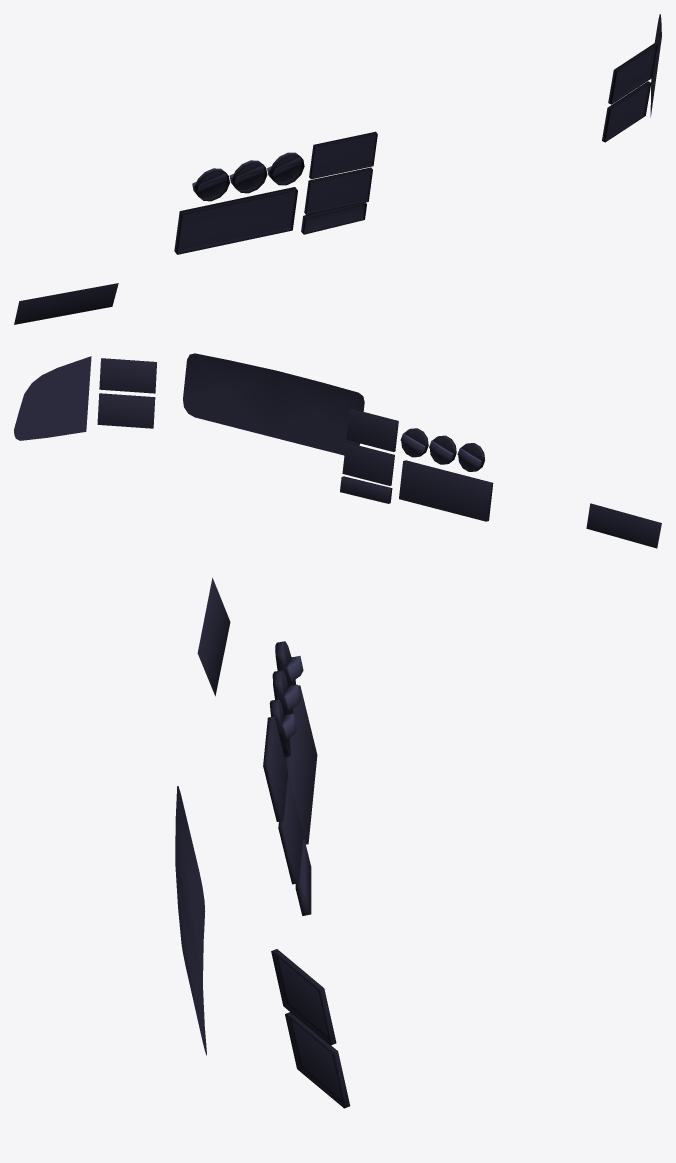
Rendered from MC_XJ220s_Inside_Detail.fbx.
3 renders of one model, top to bottom at view 1: azimuth 30°, elevation 25°; view 2: azimuth 150°, elevation 25°; view 3: azimuth 270°, elevation 25°, orthographic. The views are drawn at different scales.
Parts seen in each view (by area): view 1: MC_XJ220s_Inside_Detail; view 2: MC_XJ220s_Inside_Detail; view 3: MC_XJ220s_Inside_Detail.
Part boxes in pixels (x1=…): MC_XJ220s_Inside_Detail: x1=14, y1=14, x2=661, y2=324; MC_XJ220s_Inside_Detail: x1=14, y1=353, x2=661, y2=548; MC_XJ220s_Inside_Detail: x1=175, y1=577, x2=350, y2=1108.
Size of the model in its own units: 127 by 17.17 by 31.18.
